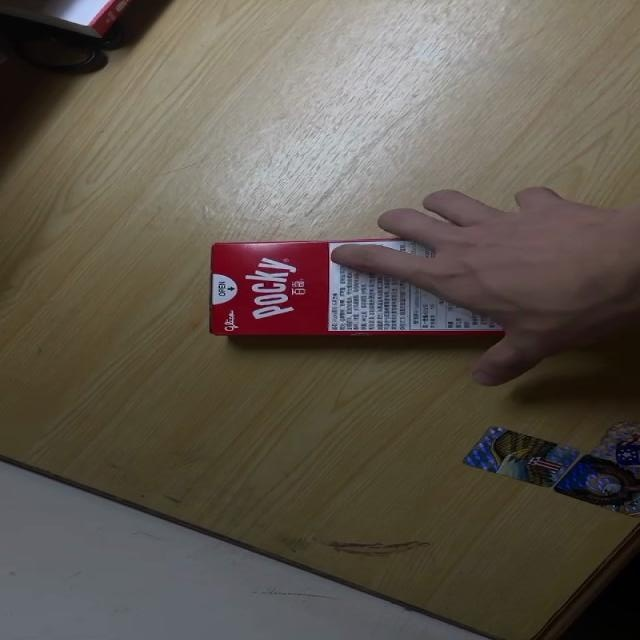Pocky: (209, 238, 592, 338)
